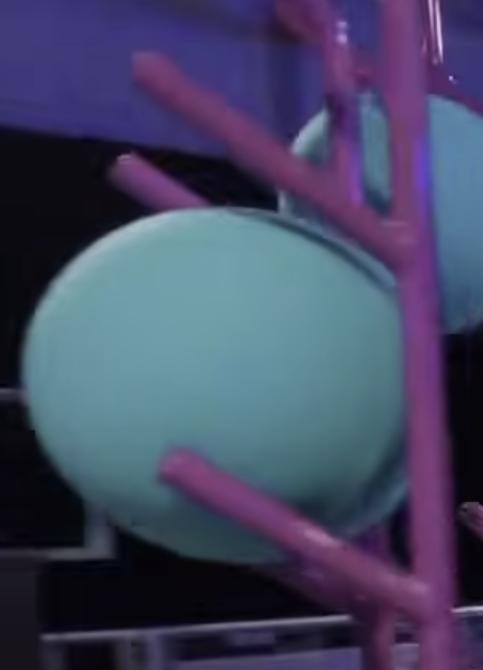algae: (25, 207, 402, 563), (283, 89, 483, 335)
